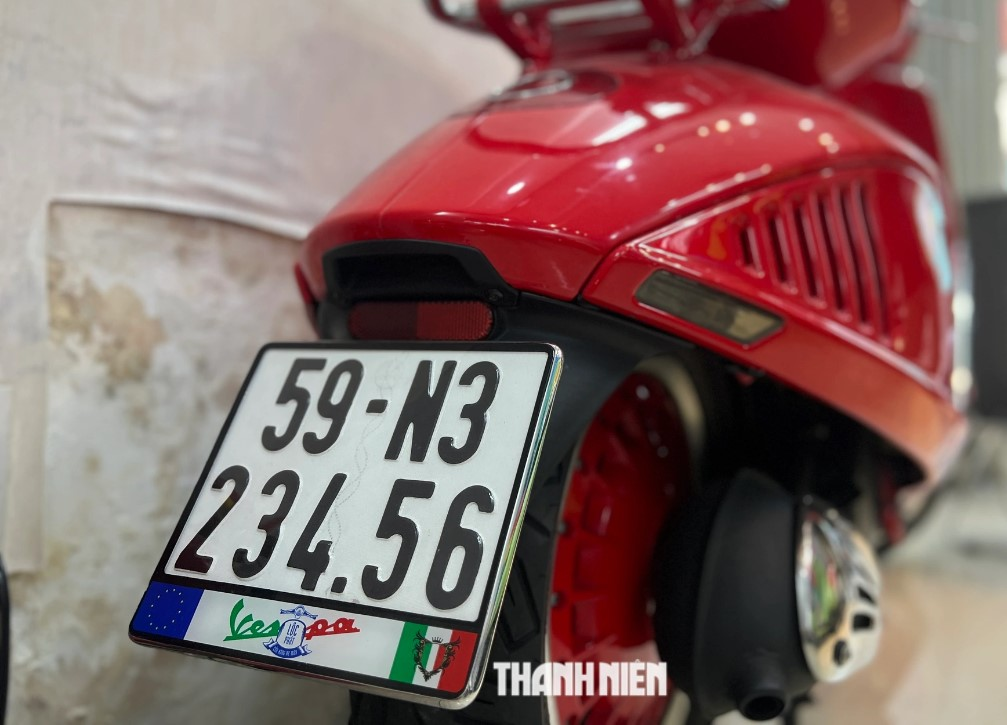bien_so: (123, 327, 574, 715)
